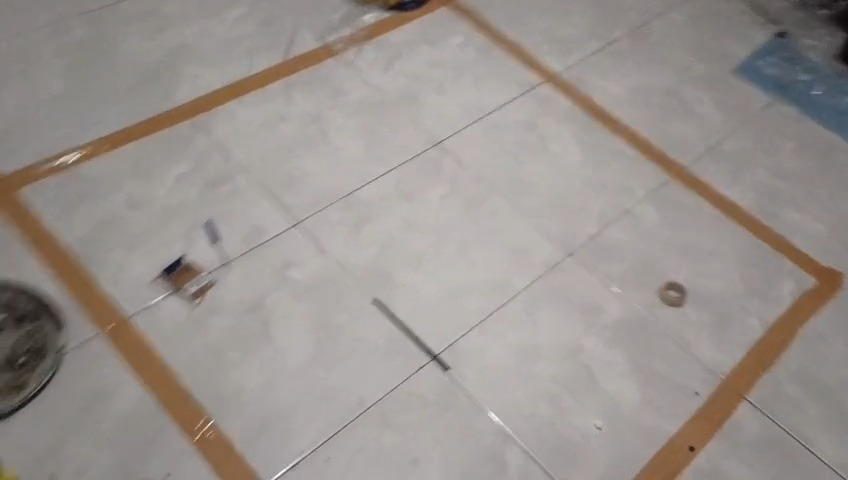floor marking: (364, 2, 842, 479), (0, 46, 332, 479)
